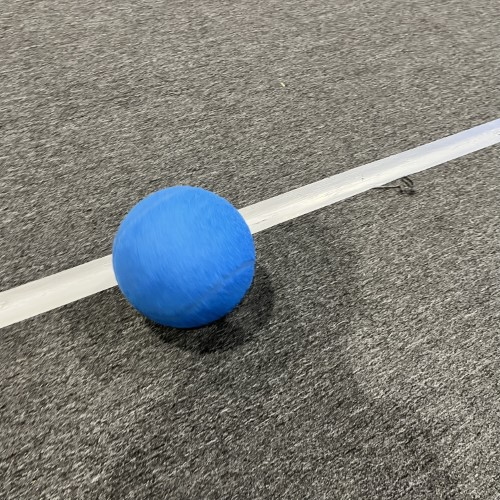blue: (110, 184, 257, 330)
